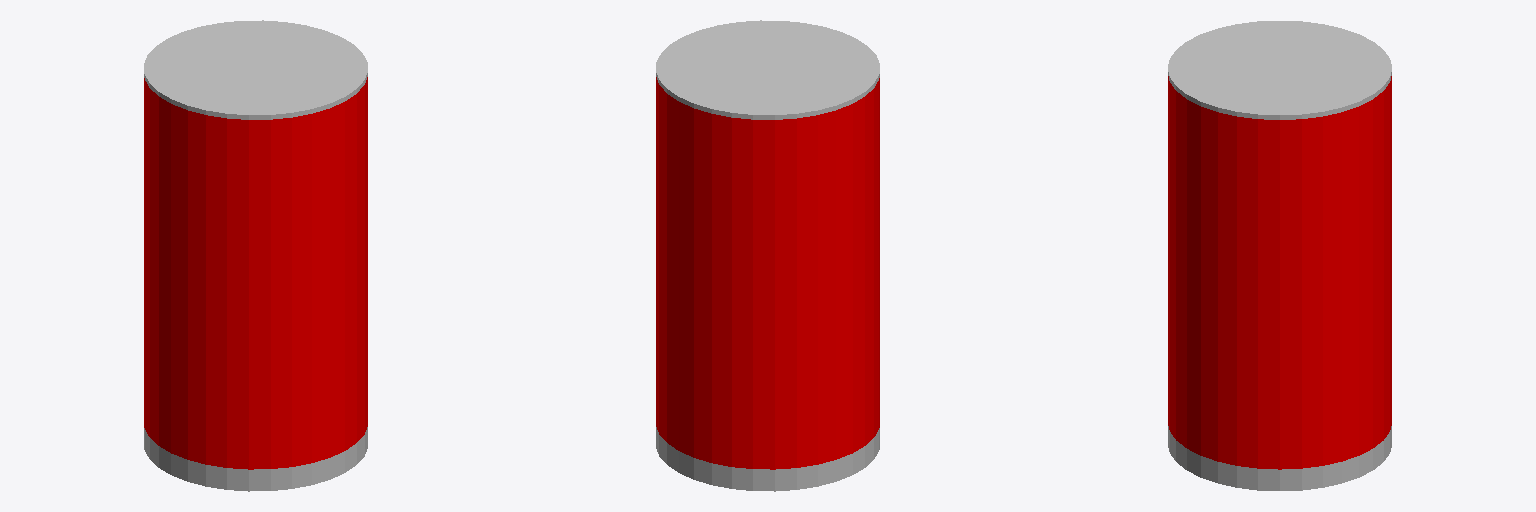
The robot description file, URDF, robot "lata":
<?xml version="1.0" ?>
<!-- =================================================================================== -->
<!-- |    This document was autogenerated by xacro from lata_amstel.xacro              | -->
<!-- |    EDITING THIS FILE BY HAND IS NOT RECOMMENDED                                 | -->
<!-- =================================================================================== -->
<robot name="lata" xmlns:xacro="http://www.ros.org/wiki/xacro">
  <link name="world"/>
  <joint name="lata" type="floating">
    <parent link="world"/>
    <child link="lata_link"/>
    <origin rpy="0 0 0" xyz="0 0 0"/>
  </joint>
  <link name="lata_link">
    <visual>
      <geometry>
        <cylinder length="0.1115" radius="0.0325"/>
      </geometry>
      <origin rpy="0 0 0" xyz="0 0 0.06275"/>
      <material name="red">
        <color rgba="1 0 0 1"/>
      </material>
    </visual>
    <collision>
      <origin rpy="0 0 0" xyz="0 0 0.06275"/>
      <geometry>
        <cylinder length="0.1115" radius="0.0325"/>
      </geometry>
    </collision>
    <inertial>
      <origin rpy="0 0 0" xyz="0 0 0.06275"/>
      <mass value="0.01"/>
      <inertia ixx="0.001" ixy="0.0" ixz="0.0" iyy="0.001" iyz="0.0" izz="0.001"/>
    </inertial>
  </link>
  <joint name="lata_top" type="fixed">
    <parent link="lata_link"/>
    <child link="lata_top_link"/>
    <origin rpy="0 0 0" xyz="0 0 0.1185"/>
  </joint>
  <link name="lata_top_link">
    <visual>
      <geometry>
        <cylinder length="0.0015" radius="0.0325"/>
      </geometry>
      <origin rpy="0 0 0" xyz="0 0 0.00075"/>
      <material name="grey">
        <color rgba="0.8 0.8 0.8 1"/>
      </material>
    </visual>
    <collision>
      <origin rpy="0 0 0" xyz="0 0 0.00075"/>
      <geometry>
        <cylinder length="0.0015" radius="0.0325"/>
      </geometry>
    </collision>
    <inertial>
      <origin rpy="0 0 0" xyz="0 0 0.00075"/>
      <mass value="0.001"/>
      <inertia ixx="0.0001" ixy="0.0" ixz="0.0" iyy="0.0001" iyz="0.0" izz="0.0001"/>
    </inertial>
  </link>
  <joint name="lata_bottom" type="fixed">
    <parent link="lata_link"/>
    <child link="lata_bottom_link"/>
    <origin rpy="0 0 0" xyz="0 0 0"/>
  </joint>
  <link name="lata_bottom_link">
    <visual>
      <geometry>
        <cylinder length="0.007" radius="0.0325"/>
      </geometry>
      <origin rpy="0 0 0" xyz="0 0 0.0035"/>
      <material name="grey">
        <color rgba="0.8 0.8 0.8 1"/>
      </material>
    </visual>
    <collision>
      <origin rpy="0 0 0" xyz="0 0 0.0035"/>
      <geometry>
        <cylinder length="0.007" radius="0.0325"/>
      </geometry>
    </collision>
    <inertial>
      <origin rpy="0 0 0" xyz="0 0 0.0035"/>
      <mass value="0.001"/>
      <inertia ixx="0.0001" ixy="0.0" ixz="0.0" iyy="0.0001" iyz="0.0" izz="0.0001"/>
    </inertial>
  </link>
  <gazebo reference="lata_link">
    <material>objetos_fer/Amstel</material>
    <mu1>10</mu1>
    <mu2>10</mu2>
    <selfCollide>true</selfCollide>
    <turnGravityOff>true</turnGravityOff>
  </gazebo>
  <gazebo reference="lata_top_link">
    <material>objetos_fer/Grey0</material>
    <mu1>10</mu1>
    <mu2>10</mu2>
    <selfCollide>true</selfCollide>
    <turnGravityOff>true</turnGravityOff>
  </gazebo>
  <gazebo reference="lata_bottom_link">
    <material>objetos_fer/Grey0</material>
    <mu1>10</mu1>
    <mu2>10</mu2>
    <selfCollide>true</selfCollide>
    <turnGravityOff>true</turnGravityOff>
  </gazebo>
</robot>

--- What the picture shows (computed from the rendered views, not written in the file) ---
3 views of the same robot in one strip: view 1: azimuth 30°, elevation 25°; view 2: azimuth 150°, elevation 25°; view 3: azimuth 270°, elevation 25° (orthographic).
Model lata with 4 links and 3 joints (2 fixed, 1 floating), rooted at world, posed all joints at 0.
Links seen in each view (by area): view 1: lata_link, lata_top_link, lata_bottom_link; view 2: lata_link, lata_top_link, lata_bottom_link; view 3: lata_link, lata_top_link, lata_bottom_link.
Boxes of the visible links, x1=… form: lata_link: x1=144, y1=77, x2=367, y2=469; lata_top_link: x1=144, y1=20, x2=367, y2=119; lata_bottom_link: x1=144, y1=427, x2=367, y2=491; lata_link: x1=656, y1=77, x2=879, y2=469; lata_top_link: x1=656, y1=20, x2=879, y2=119; lata_bottom_link: x1=656, y1=427, x2=879, y2=491; lata_link: x1=1168, y1=76, x2=1391, y2=469; lata_top_link: x1=1168, y1=21, x2=1391, y2=119; lata_bottom_link: x1=1168, y1=426, x2=1391, y2=490.
Size in the robot's own frame: 0.065 by 0.065 by 0.12 metres.
Geometry: primitives only (box / cylinder / sphere), no mesh files.
